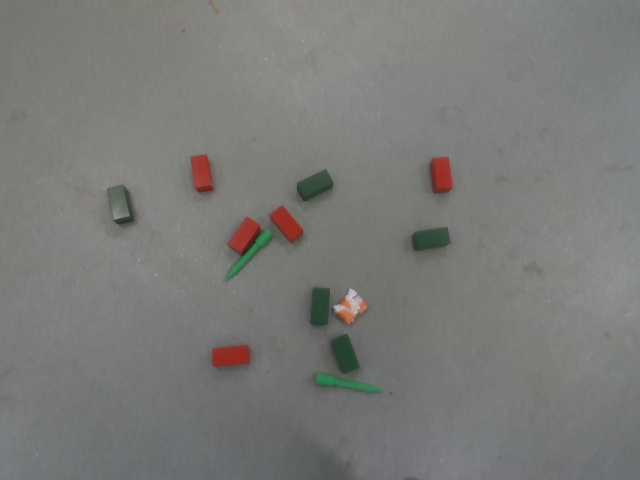Probe: (222, 227, 275, 283), (310, 371, 385, 396)
